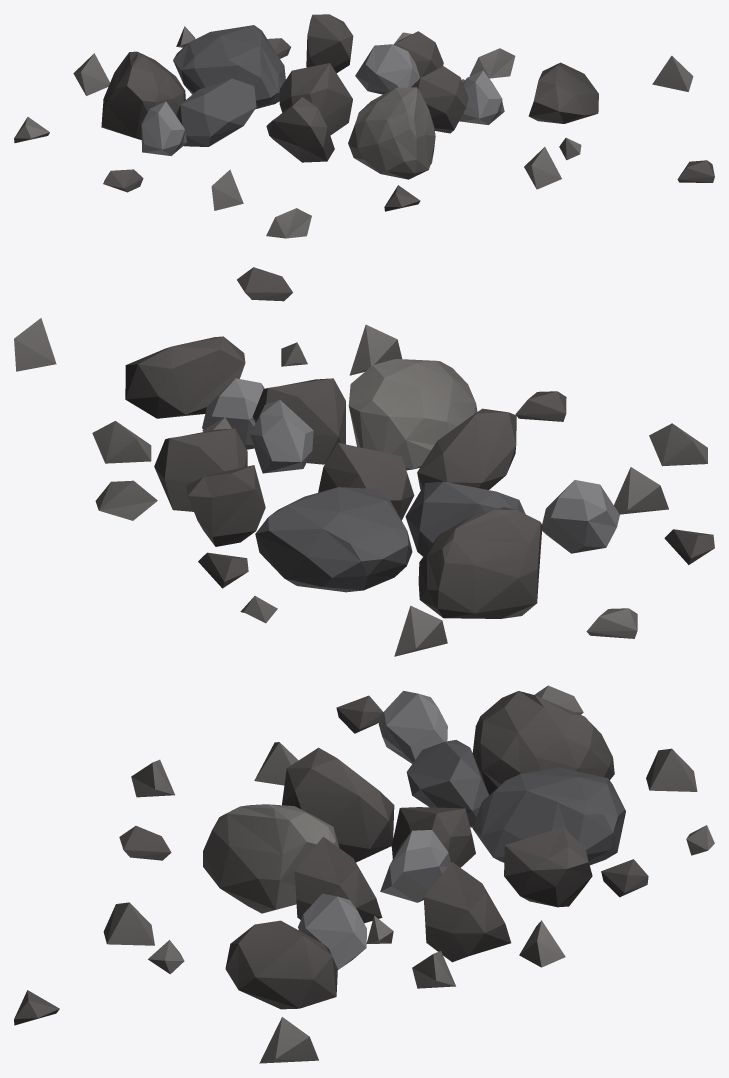
Rendered from ZLPC_Rock_E_7.FBX.
3 views of the same model, one above another, from view 1: azimuth 30°, elevation 25°; view 2: azimuth 150°, elevation 25°; view 3: azimuth 270°, elevation 25° (orthographic). The views are drawn at different scales.
Parts seen in each view (by area): view 1: ZLPC_Rock_E_7; view 2: ZLPC_Rock_E_7; view 3: ZLPC_Rock_E_7.
Part boxes in pixels (x1,y1,x2,y2): ZLPC_Rock_E_7: [14, 14, 714, 238]; ZLPC_Rock_E_7: [14, 267, 714, 656]; ZLPC_Rock_E_7: [14, 685, 714, 1063].
Bounding box in the file's own units: 450 × 60.24 × 367.
